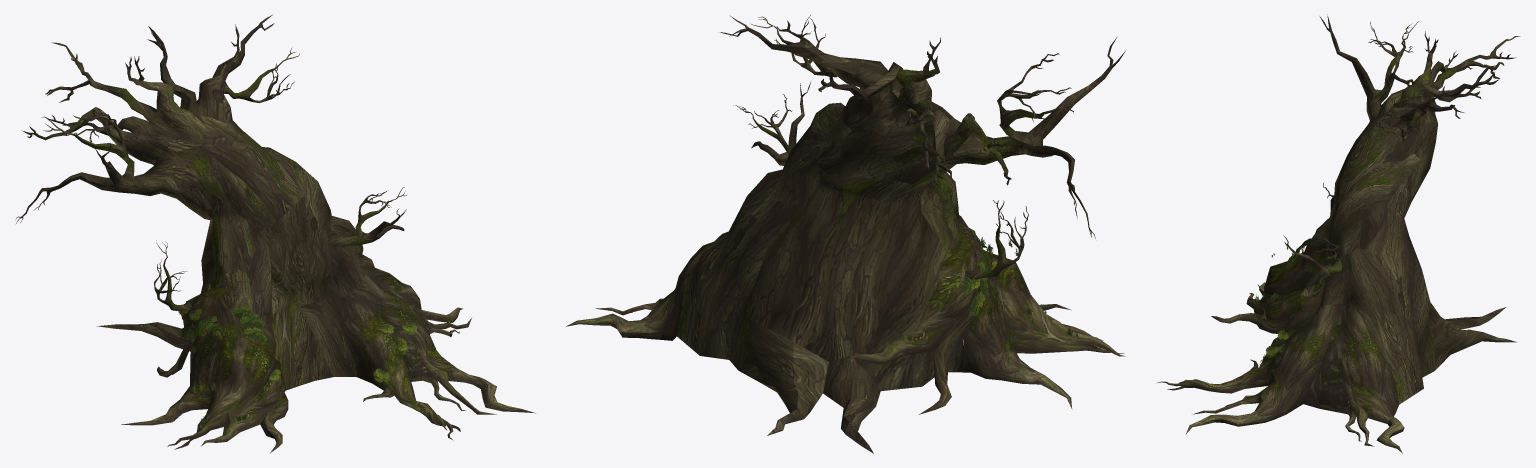
The model's file is 4007_Item_shu_6.FBX.
The picture shows the model from 3 angles, left to right: view 1: azimuth 30°, elevation 25°; view 2: azimuth 150°, elevation 25°; view 3: azimuth 270°, elevation 25°; orthographic projection. The views are drawn at different scales.
Parts seen in each view (by area): view 1: 4007_Item_shu_6; view 2: 4007_Item_shu_6; view 3: 4007_Item_shu_6.
Part boxes in pixels (<box>): 4007_Item_shu_6: <box>15,14,535,453</box>; 4007_Item_shu_6: <box>566,15,1125,453</box>; 4007_Item_shu_6: <box>1157,14,1520,453</box>.
Size of the model in its own units: 739 by 522 by 601.
